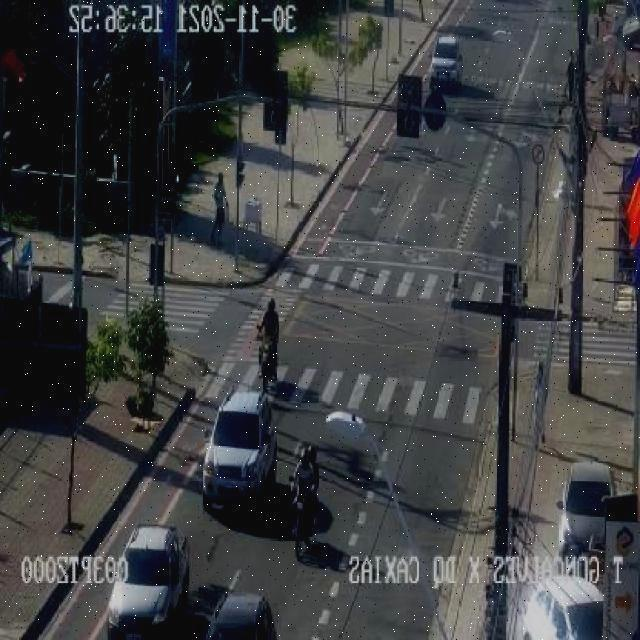Car: (106, 521, 192, 640), (198, 391, 272, 506), (429, 30, 465, 82)
Cycle: (290, 434, 320, 562), (256, 297, 282, 383)
